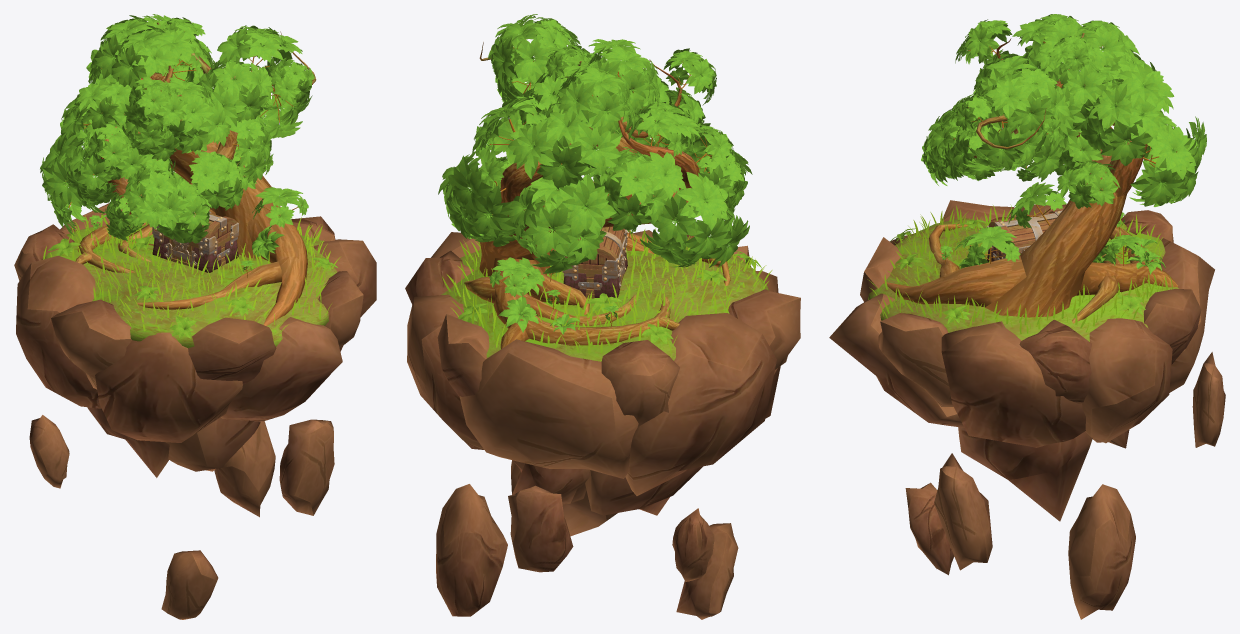
3 views of the same model, side by side, from view 1: azimuth 30°, elevation 25°; view 2: azimuth 150°, elevation 25°; view 3: azimuth 270°, elevation 25° (orthographic). The views are drawn at different scales.
Visible parts, largest first — view 1: Leaf_01_LP, Rock_02_LP, Rock_01_LP, Ground, Tree_01_LP, Grass_01, Plant_01_LP, Cloth_01_LP; view 2: Leaf_01_LP, Rock_01_LP, Rock_02_LP, Tree_01_LP, Ground, Grass_01, Plant_01_LP, Cloth_01_LP, Sticks_01; view 3: Leaf_01_LP, Rock_01_LP, Rock_02_LP, Tree_01_LP, Ground, Grass_01, Plant_01_LP, Top_05_LP.
Part boxes in pixels (box(x1,y1,x2,y2)): Leaf_01_LP: box(40, 14, 314, 272); Rock_02_LP: box(51, 271, 363, 619); Rock_01_LP: box(14, 203, 376, 517); Ground: box(42, 224, 337, 348); Tree_01_LP: box(75, 22, 316, 325); Grass_01: box(43, 213, 340, 332); Plant_01_LP: box(48, 237, 337, 338); Cloth_01_LP: box(152, 237, 238, 272); Leaf_01_LP: box(438, 14, 752, 334); Rock_01_LP: box(405, 232, 780, 616); Rock_02_LP: box(437, 230, 800, 619); Tree_01_LP: box(464, 42, 730, 348); Ground: box(441, 244, 768, 361); Grass_01: box(442, 228, 772, 355); Plant_01_LP: box(458, 251, 761, 343); Cloth_01_LP: box(563, 249, 627, 297); Sticks_01: box(489, 39, 726, 327); Leaf_01_LP: box(921, 14, 1206, 274); Rock_01_LP: box(889, 204, 1214, 619); Rock_02_LP: box(829, 200, 1225, 575); Tree_01_LP: box(883, 33, 1177, 323); Ground: box(868, 218, 1178, 341); Grass_01: box(867, 204, 1172, 333); Plant_01_LP: box(890, 215, 1145, 324); Top_05_LP: box(1003, 213, 1055, 247).
Size of the model in its own units: 4.43 by 7.11 by 4.55.
Materials: 7 (7 with a texture image).
